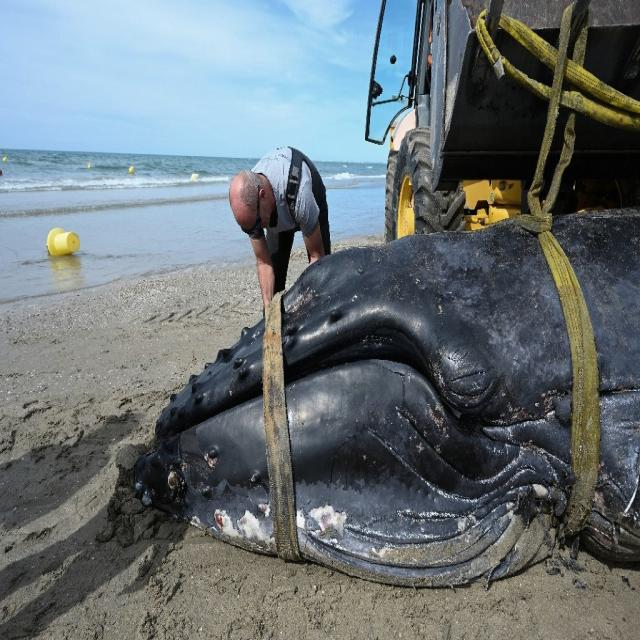whale: (134, 223, 576, 585), (554, 211, 640, 558)
